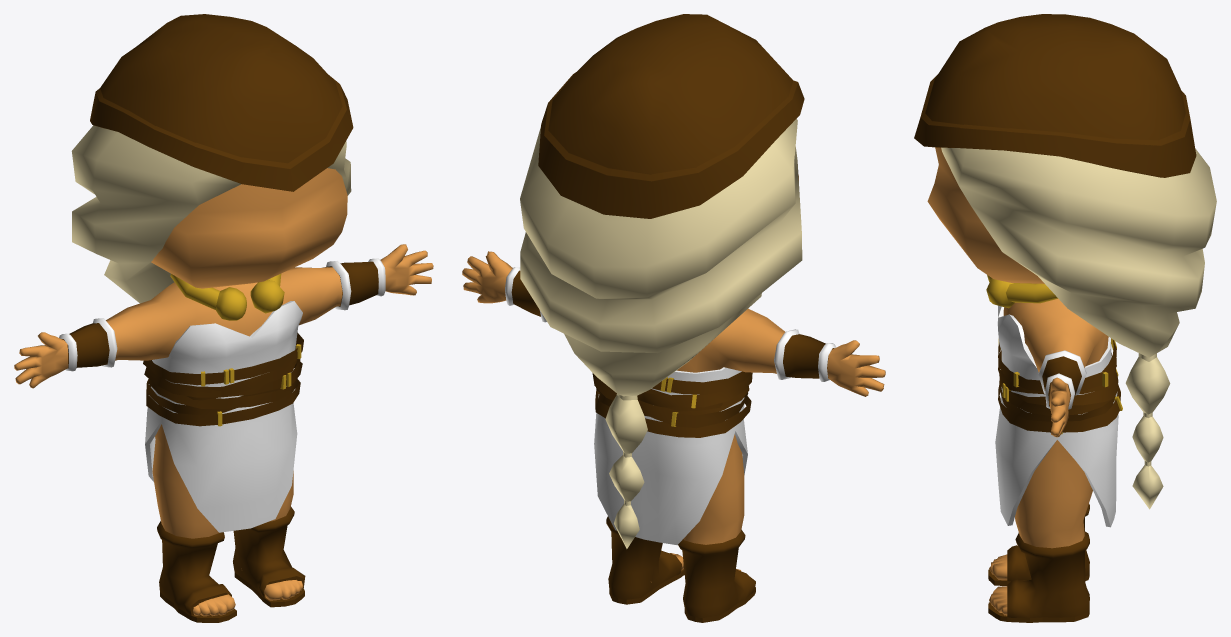
The model's file is Idun.FBX.
The picture shows the model from 3 angles, left to right: view 1: azimuth 30°, elevation 25°; view 2: azimuth 150°, elevation 25°; view 3: azimuth 270°, elevation 25°; orthographic projection.
Visible parts, largest first — view 1: Body, Helm_HP, Kleid, Haar_LP, stiefel, Gurt006, Manschetten, Torque; view 2: Haar_LP, Helm_HP, Kleid, Body, stiefel, Gurt006, Manschetten; view 3: Haar_LP, Helm_HP, Body, Kleid, stiefel, Gurt006, Manschetten, Torque, Perlen.
Part boxes in pixels (x1=…): Body: x1=14, y1=168, x2=433, y2=616; Helm_HP: x1=90, y1=14, x2=353, y2=191; Kleid: x1=145, y1=301, x2=302, y2=532; Haar_LP: x1=71, y1=125, x2=351, y2=303; stiefel: x1=157, y1=506, x2=305, y2=622; Gurt006: x1=143, y1=332, x2=303, y2=426; Manschetten: x1=59, y1=258, x2=385, y2=371; Torque: x1=170, y1=274, x2=284, y2=320; Haar_LP: x1=520, y1=118, x2=802, y2=548; Helm_HP: x1=538, y1=14, x2=804, y2=218; Kleid: x1=594, y1=367, x2=747, y2=545; Body: x1=462, y1=174, x2=885, y2=582; stiefel: x1=606, y1=516, x2=755, y2=622; Gurt006: x1=592, y1=371, x2=752, y2=437; Manschetten: x1=505, y1=267, x2=835, y2=381; Haar_LP: x1=941, y1=147, x2=1216, y2=509; Helm_HP: x1=914, y1=14, x2=1196, y2=177; Body: x1=927, y1=147, x2=1108, y2=615; Kleid: x1=995, y1=305, x2=1118, y2=527; stiefel: x1=988, y1=504, x2=1089, y2=622; Gurt006: x1=998, y1=340, x2=1120, y2=432; Manschetten: x1=1038, y1=350, x2=1086, y2=409; Torque: x1=986, y1=275, x2=1057, y2=308; Perlen: x1=998, y1=338, x2=1122, y2=434.
Bounding box in the file's own units: 30.93 × 39.47 × 19.07.
